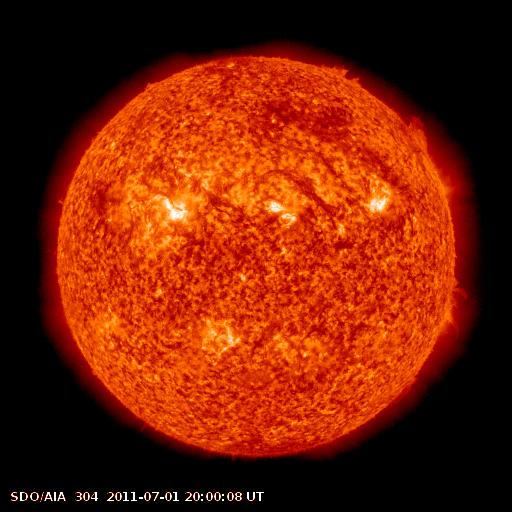prominence: (443, 272, 475, 331), (404, 108, 436, 161), (306, 58, 366, 85)
